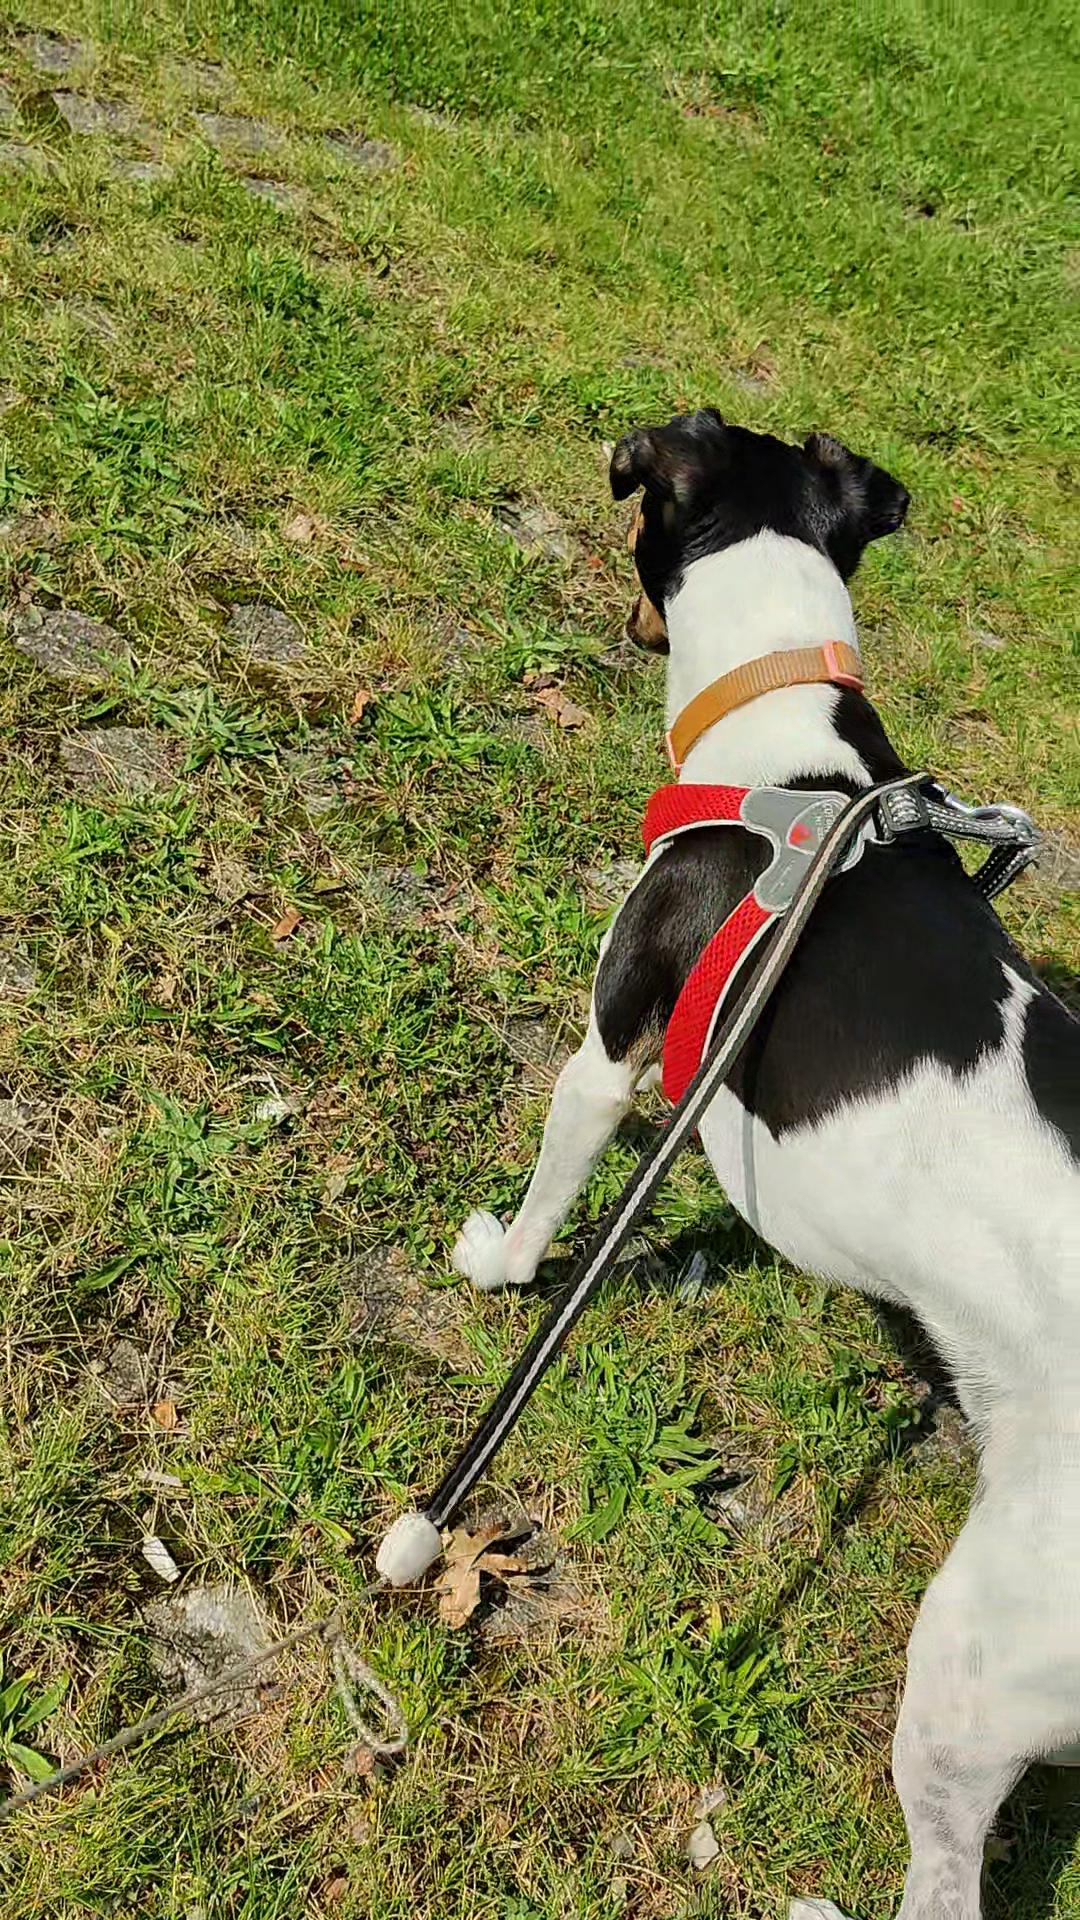Dog: (433, 363, 1079, 1919)
